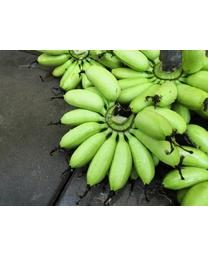banana: (36, 50, 206, 192)
